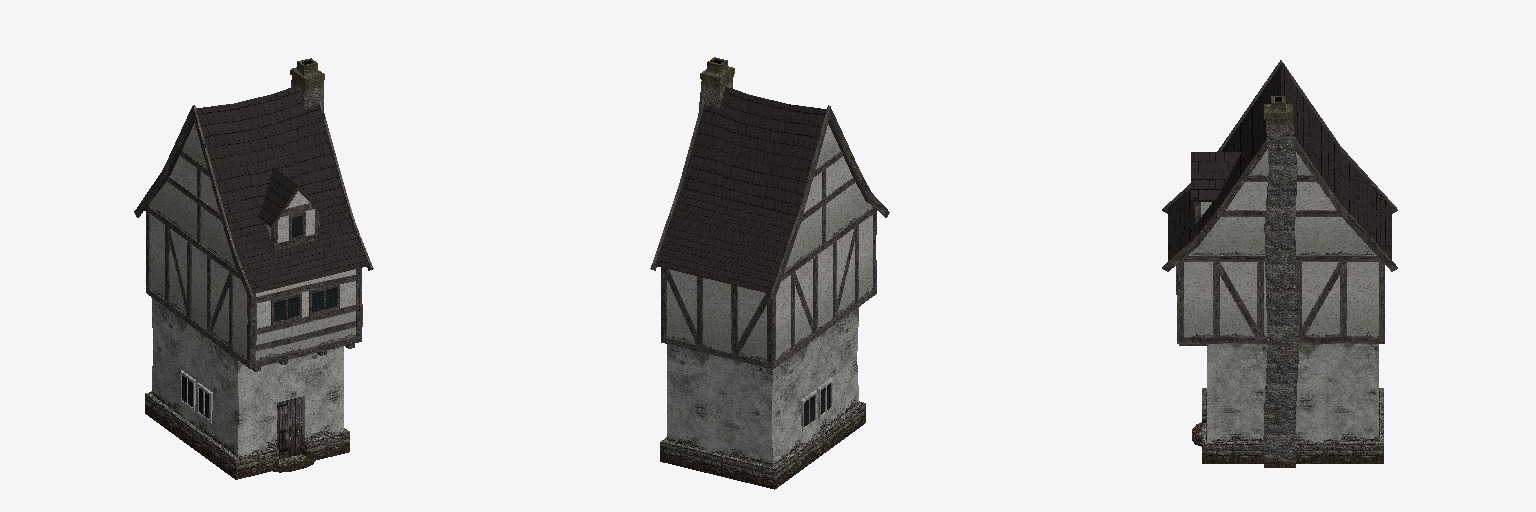
The picture shows the model from 3 angles: view 1: azimuth 30°, elevation 25°; view 2: azimuth 150°, elevation 25°; view 3: azimuth 270°, elevation 25°; orthographic projection.
Parts seen in each view (by area): view 1: Object_poorfolks_roof.jpg, Object_poorfolks_stucco2.jpg, Object_poorfolks_stucco.jpg, Object_poorfolks_logs.jpg, Object_poorfolks_bricks.jpg, Object_poorfolks_window.jpg, Object_poorfolks_door5.jpg, Object_poorfolks_chimney_long.jpg, Object_poorfolks_attic_planks.jpg; view 2: Object_poorfolks_roof.jpg, Object_poorfolks_stucco2.jpg, Object_poorfolks_stucco.jpg, Object_poorfolks_logs.jpg, Object_poorfolks_bricks.jpg, Object_poorfolks_chimney_long.jpg; view 3: Object_poorfolks_stucco.jpg, Object_poorfolks_stucco2.jpg, Object_poorfolks_roof.jpg, Object_poorfolks_chimney_long.jpg, Object_poorfolks_logs.jpg, Object_poorfolks_bricks.jpg.
Part boxes in pixels (x1,y1,x2,y2): Object_poorfolks_roof.jpg: (196,86,367,291); Object_poorfolks_stucco2.jpg: (151,297,343,456); Object_poorfolks_stucco.jpg: (150,123,355,360); Object_poorfolks_logs.jpg: (134,101,373,371); Object_poorfolks_bricks.jpg: (145,392,349,479); Object_poorfolks_window.jpg: (182,215,336,418); Object_poorfolks_door5.jpg: (277,397,301,458); Object_poorfolks_chimney_long.jpg: (290,58,324,109); Object_poorfolks_attic_planks.jpg: (144,119,368,293); Object_poorfolks_roof.jpg: (656,86,826,291); Object_poorfolks_stucco2.jpg: (667,307,858,466); Object_poorfolks_stucco.jpg: (667,124,872,360); Object_poorfolks_logs.jpg: (650,99,889,369); Object_poorfolks_bricks.jpg: (660,401,865,489); Object_poorfolks_chimney_long.jpg: (698,57,734,113); Object_poorfolks_stucco.jpg: (1184,149,1378,336); Object_poorfolks_stucco2.jpg: (1207,344,1378,441); Object_poorfolks_roof.jpg: (1168,65,1391,260); Object_poorfolks_chimney_long.jpg: (1264,96,1298,467); Object_poorfolks_logs.jpg: (1162,60,1397,345); Object_poorfolks_bricks.jpg: (1192,388,1383,463).
Bounding box in the file's own units: 0.9028 × 2.5 × 1.48.
Materials: 11 (10 with a texture image).